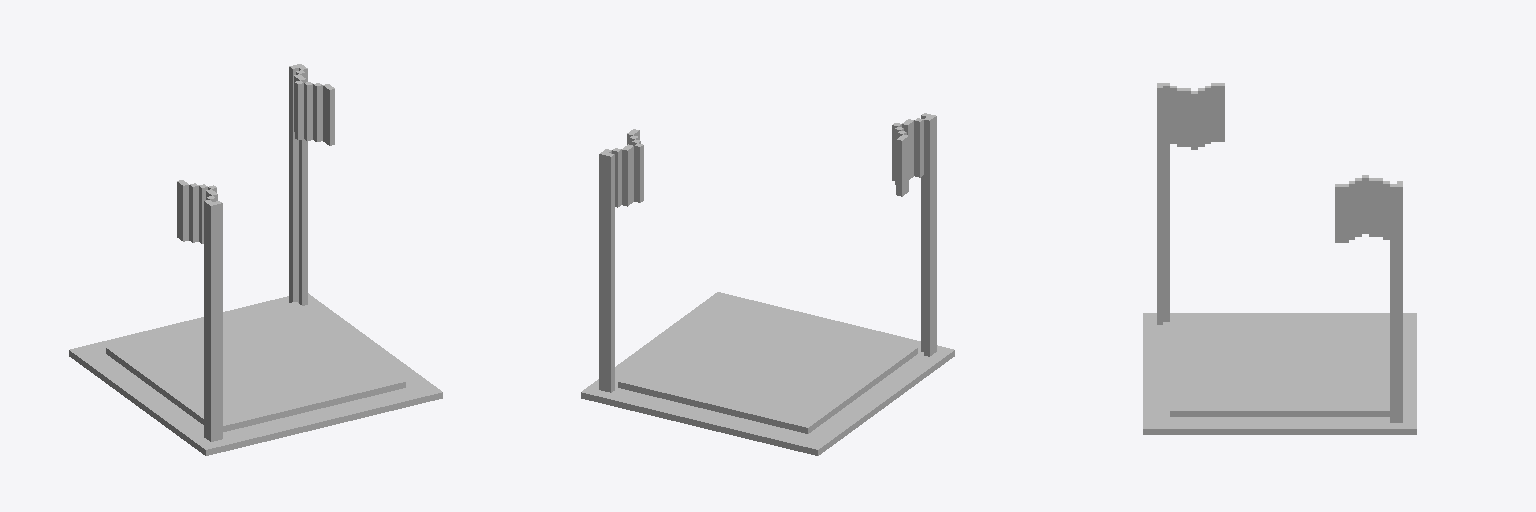
File: Victory Zone.obj
The picture shows the model from 3 angles: view 1: azimuth 30°, elevation 25°; view 2: azimuth 150°, elevation 25°; view 3: azimuth 270°, elevation 25°; orthographic projection.
Visible parts, largest first — view 1: object 1; view 2: object 1; view 3: object 1.
Boxes of the visible parts, x1,y1,x2,y2 form: object 1: [69, 64, 442, 455]; object 1: [581, 113, 954, 455]; object 1: [1143, 83, 1416, 434].
Size of the model in its own units: 4 by 3.9 by 4.